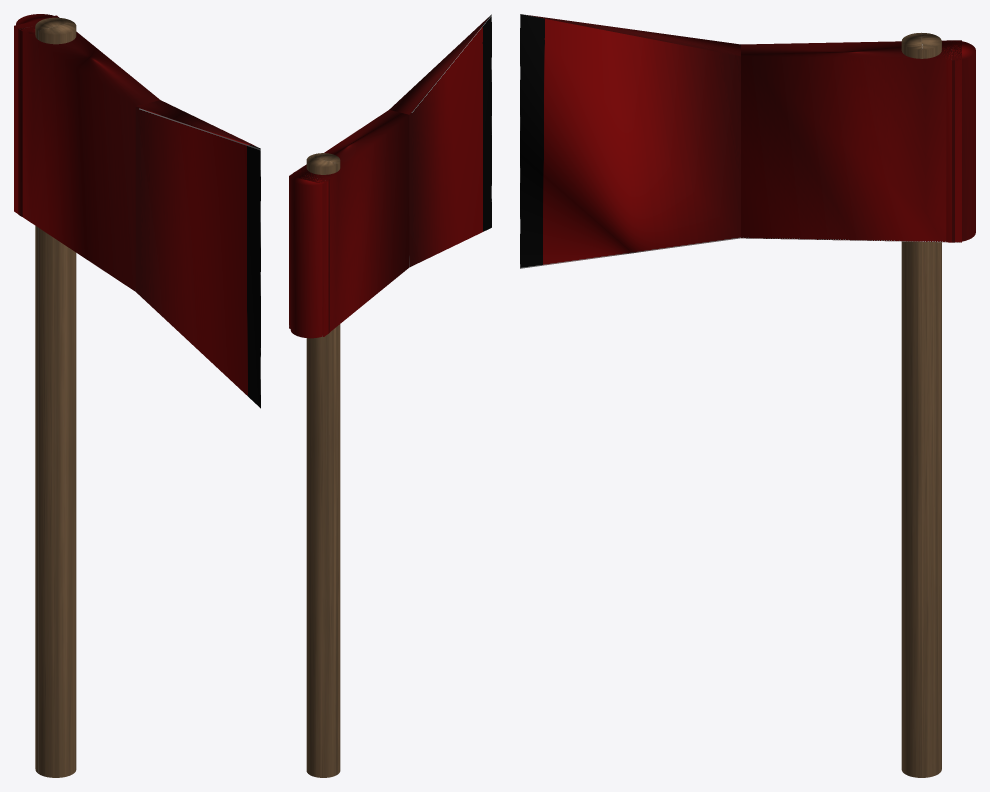
Rendered from axe.fbx.
3 renders of one model, left to right at view 1: azimuth 30°, elevation 25°; view 2: azimuth 150°, elevation 25°; view 3: azimuth 270°, elevation 25°, orthographic. The views are drawn at different scales.
Visible parts, largest first — view 1: Cylinder; view 2: Cylinder; view 3: Cylinder.
Boxes of the visible parts, <box> form: Cylinder: <box>14,14,260,777</box>; Cylinder: <box>289,14,491,777</box>; Cylinder: <box>520,14,975,777</box>.
Bounding box in the file's own units: 0.24 × 4.15 × 2.27.
1 material, 1 textured.
